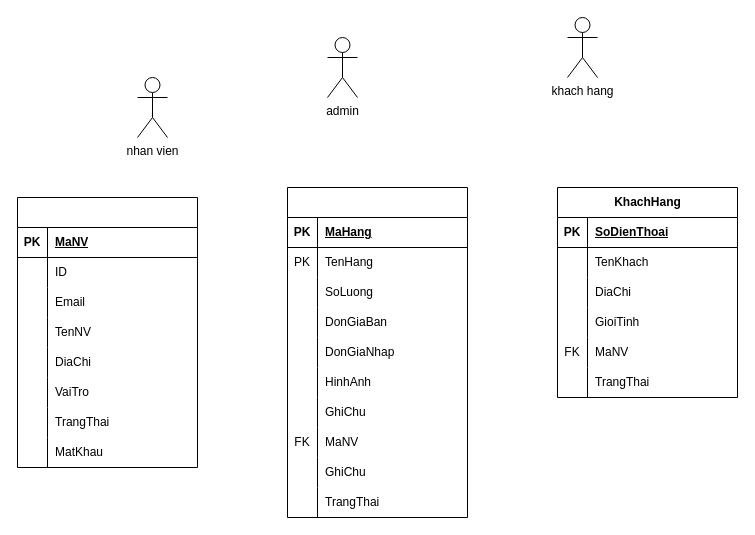
Some shapes in this 755 by 535 pixel diagram are drawn without their labels. Here are the shapes that lost their labels. From the top down, the box of each, then its label:
(16, 196, 198, 468): NhanVien
(286, 186, 468, 518): SanPham
